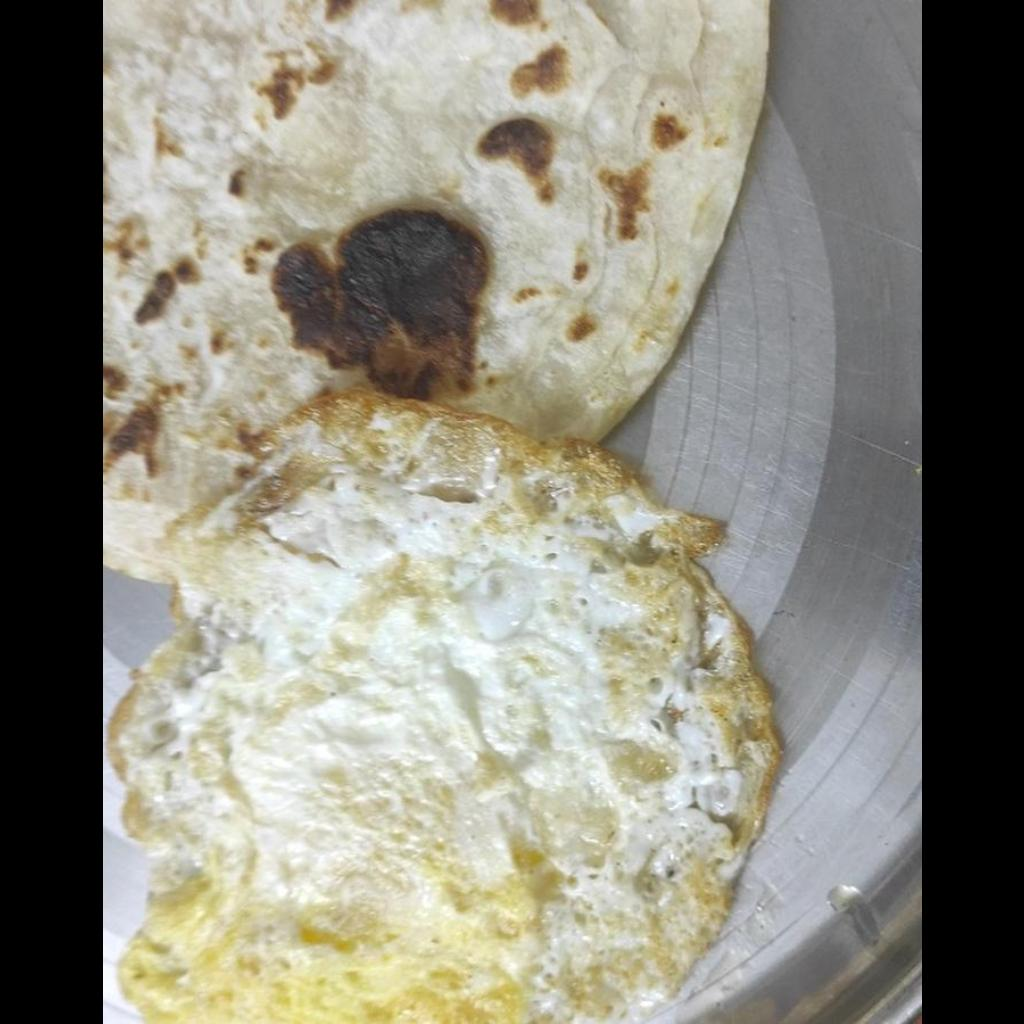egg-poached: (106, 402, 786, 1018)
ruti: (102, 1, 772, 583)
